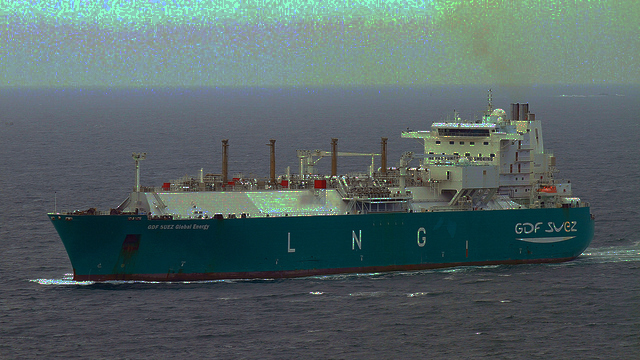LNG_ship: (46, 95, 596, 278)
